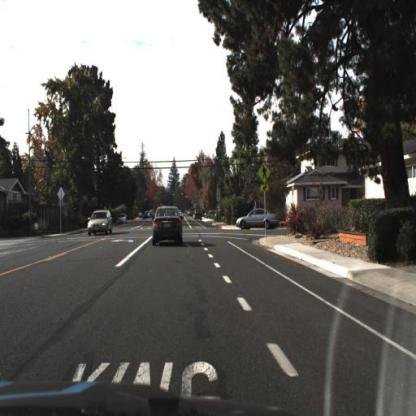car: (151, 206, 185, 247), (236, 207, 280, 233), (87, 209, 113, 239), (193, 209, 203, 227), (118, 214, 128, 225), (195, 210, 204, 222)
